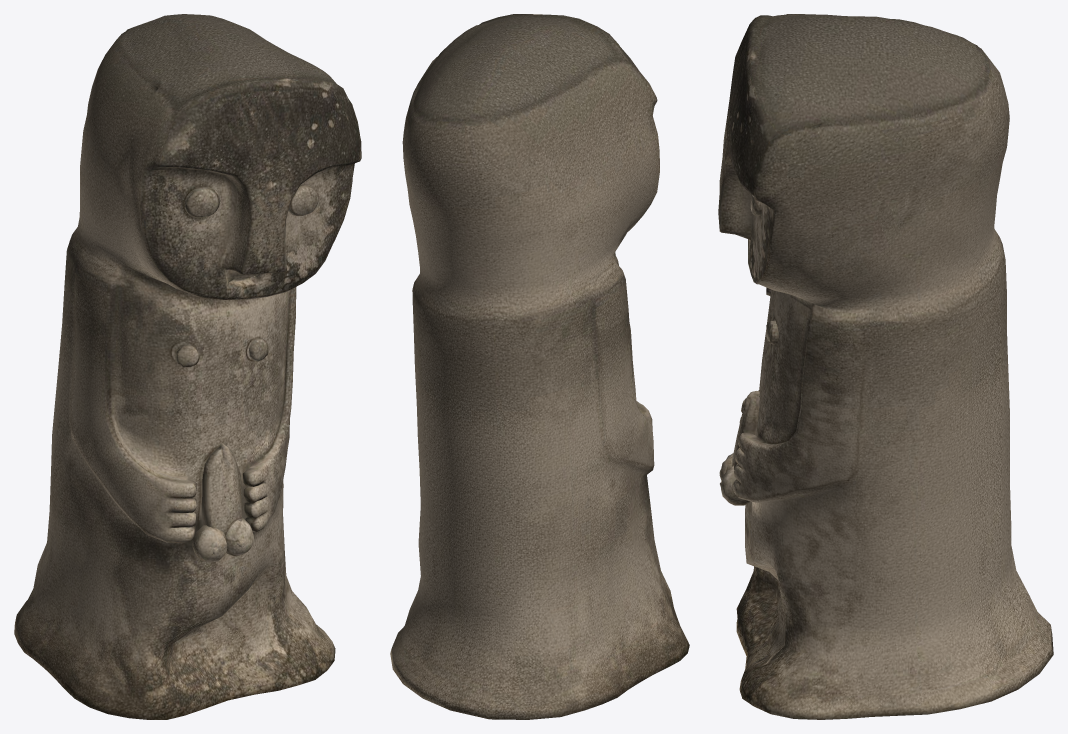
File: lembah-bada-napu-besoa.glb
3 renders of one model, left to right at view 1: azimuth 30°, elevation 25°; view 2: azimuth 150°, elevation 25°; view 3: azimuth 270°, elevation 25°, orthographic. The views are drawn at different scales.
Parts seen in each view (by area): view 1: tripo_node_ae7b4f17-500a-4d5d-9dc3-bfd80b61a3a1; view 2: tripo_node_ae7b4f17-500a-4d5d-9dc3-bfd80b61a3a1; view 3: tripo_node_ae7b4f17-500a-4d5d-9dc3-bfd80b61a3a1.
Boxes of the visible parts, left/top/right/bottom form: tripo_node_ae7b4f17-500a-4d5d-9dc3-bfd80b61a3a1: left=14, top=14, right=361, bottom=719; tripo_node_ae7b4f17-500a-4d5d-9dc3-bfd80b61a3a1: left=390, top=14, right=689, bottom=719; tripo_node_ae7b4f17-500a-4d5d-9dc3-bfd80b61a3a1: left=718, top=14, right=1053, bottom=719.
Bounding box in the file's own units: 0.4355 × 0.998 × 0.4629.
1 material, 1 textured.
